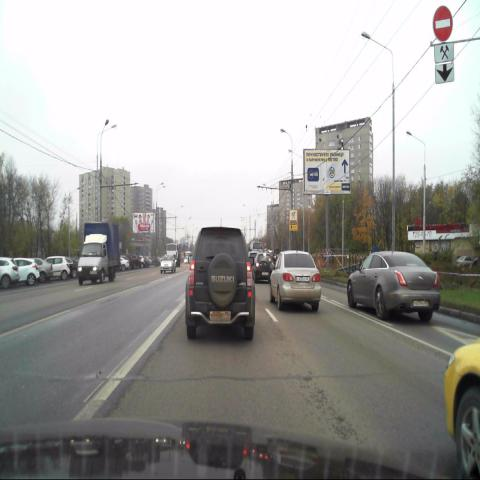8_5_2: (434, 46, 454, 63)
